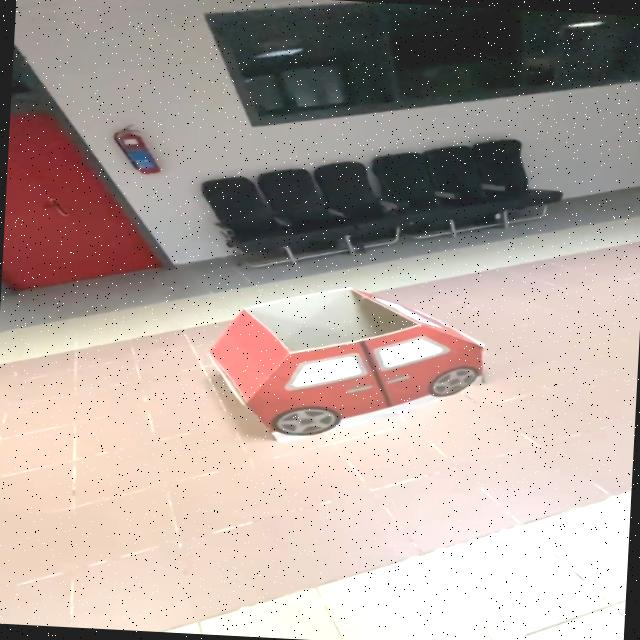red_car: (157, 271, 532, 465)
